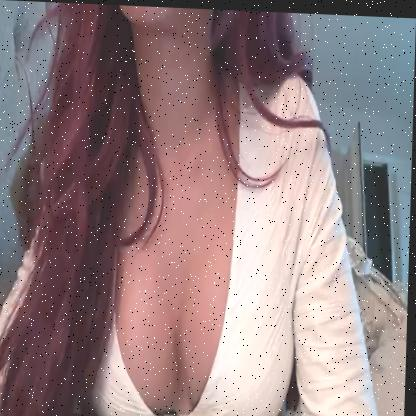streamer: (0, 0, 394, 416)
